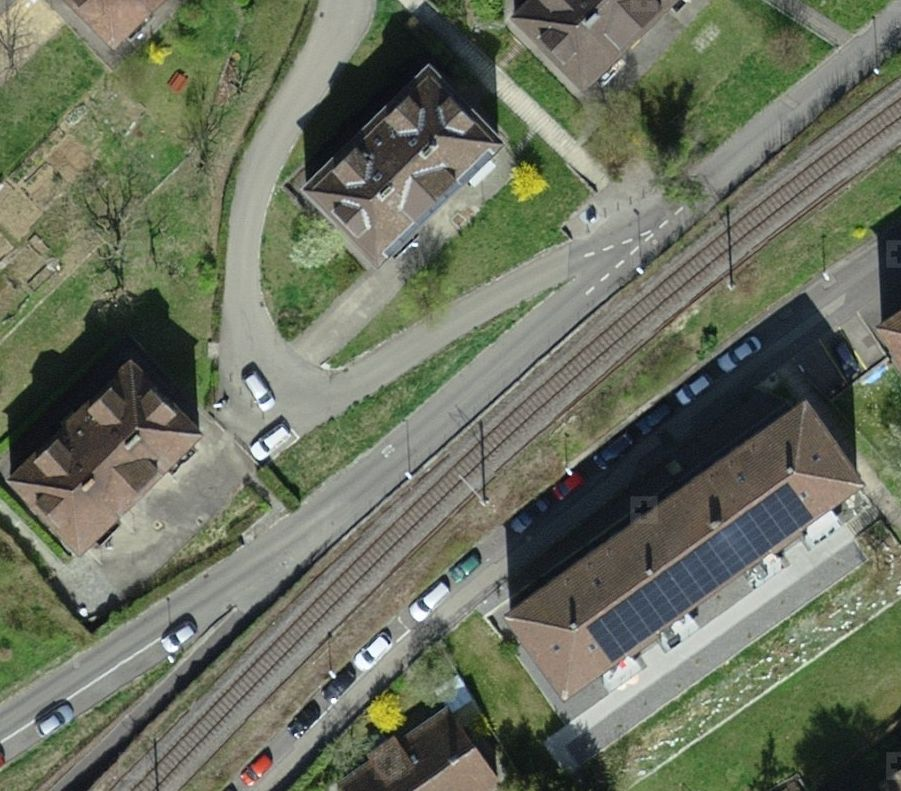solar: (585, 479, 814, 664)
